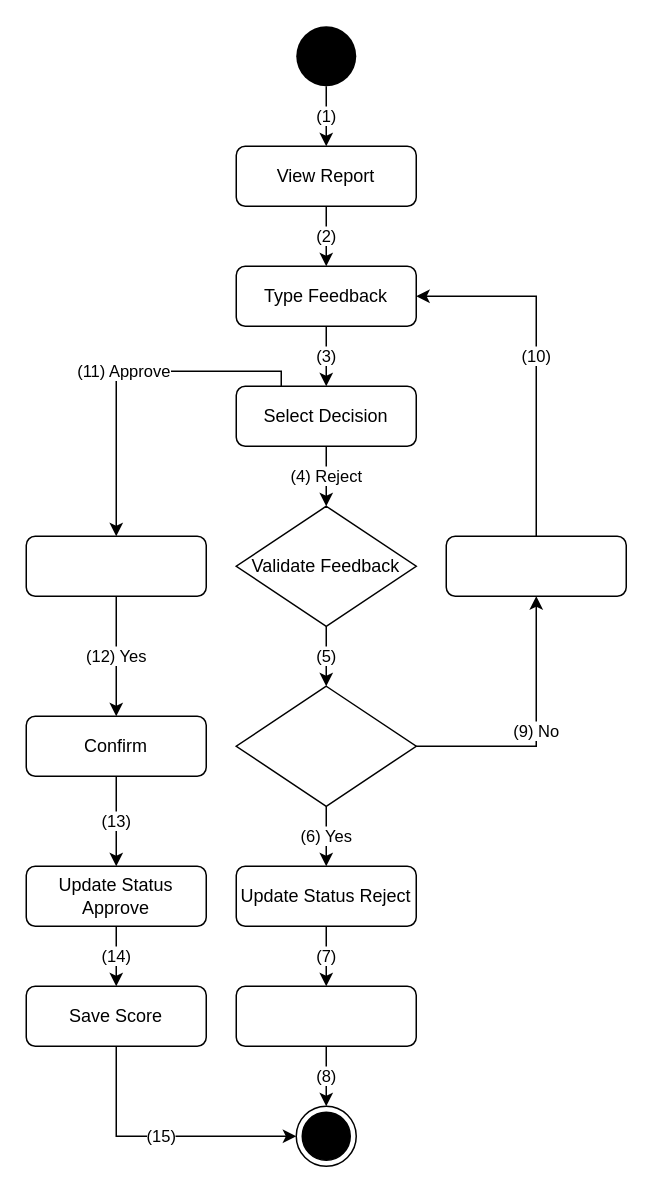
Some shapes in this 653 by 1193 pixel diagram are drawn without their labels. Here are the shapes that lost their labels. From the top down, the centre of each, then its label:
At (x=115, y=565): "Prompt Confirm".
At (x=535, y=565): "Show Error".
At (x=325, y=745): "Is Valid".
At (x=325, y=1015): "Show Success Reject".
